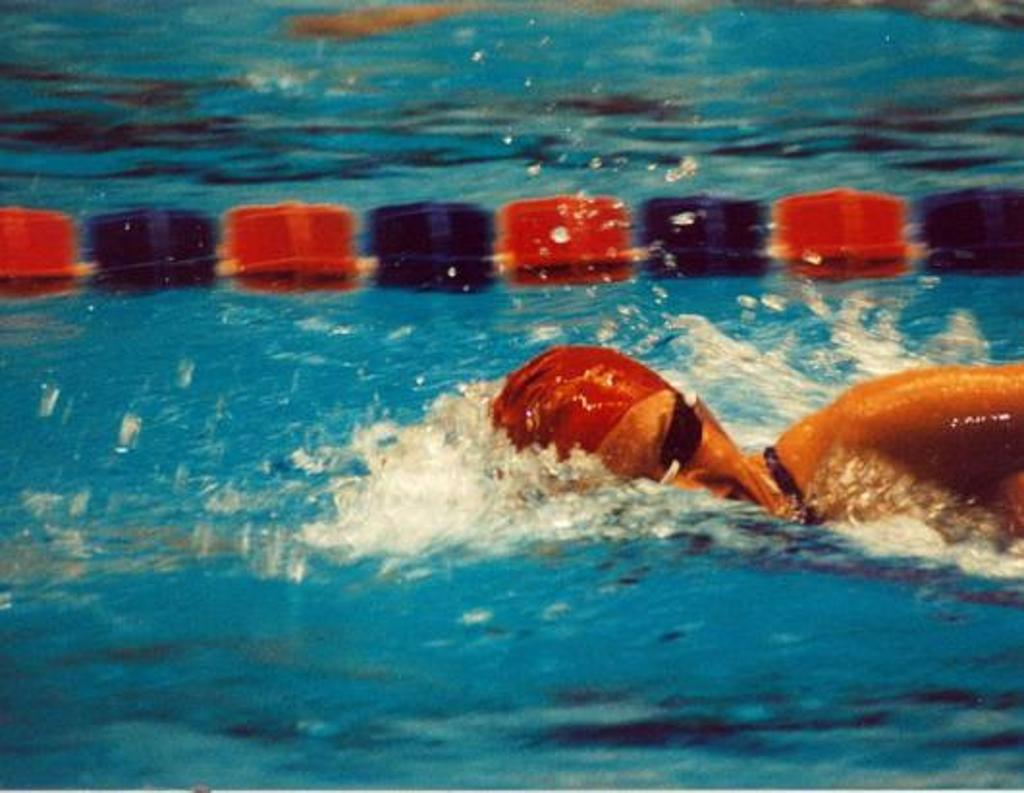face: (552, 388, 784, 576)
